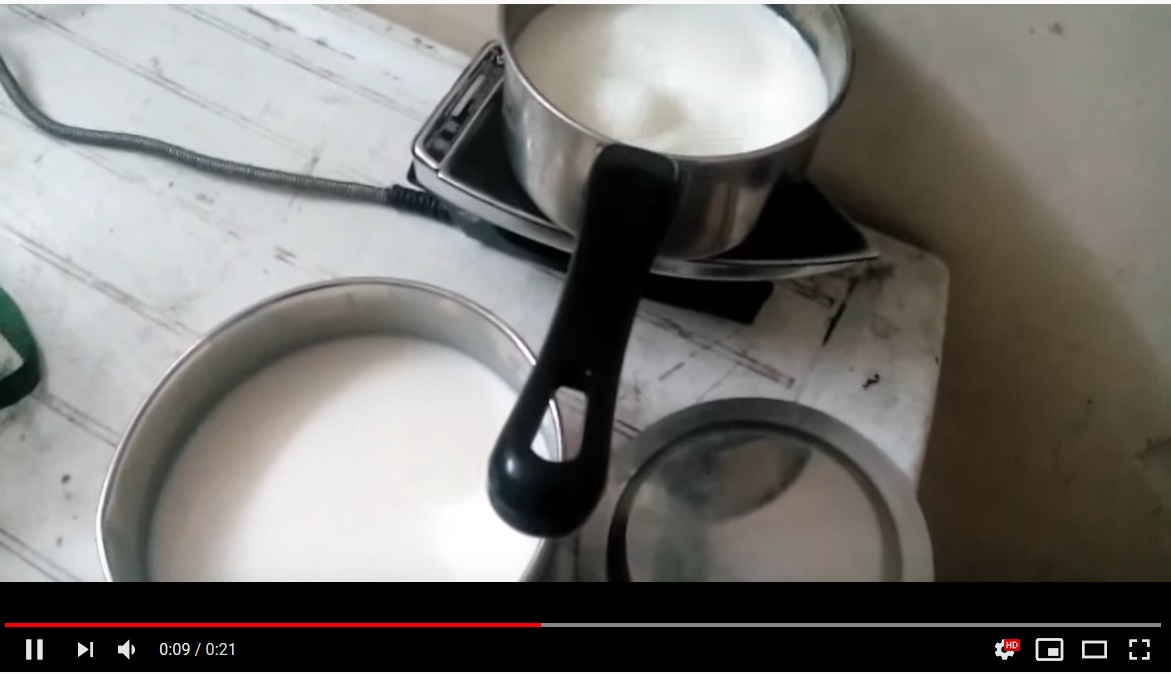Steaming: (146, 314, 539, 582), (481, 1, 899, 245)
